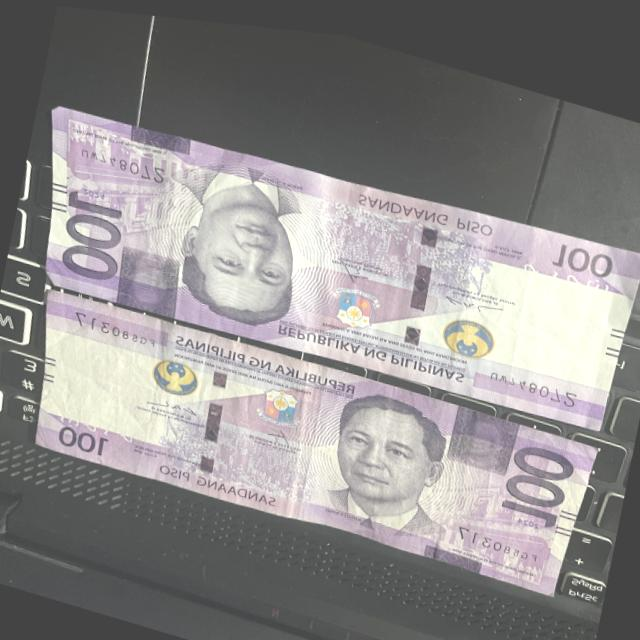concealed_value: (440, 390, 533, 477), (111, 237, 190, 322)
security_thread: (390, 191, 446, 375), (192, 337, 234, 488)
serial_number: (477, 347, 582, 401), (76, 136, 174, 192), (448, 506, 548, 560), (63, 299, 157, 348)
value: (486, 421, 580, 527), (47, 179, 135, 289)
watermark: (466, 247, 610, 382), (47, 324, 176, 449)
